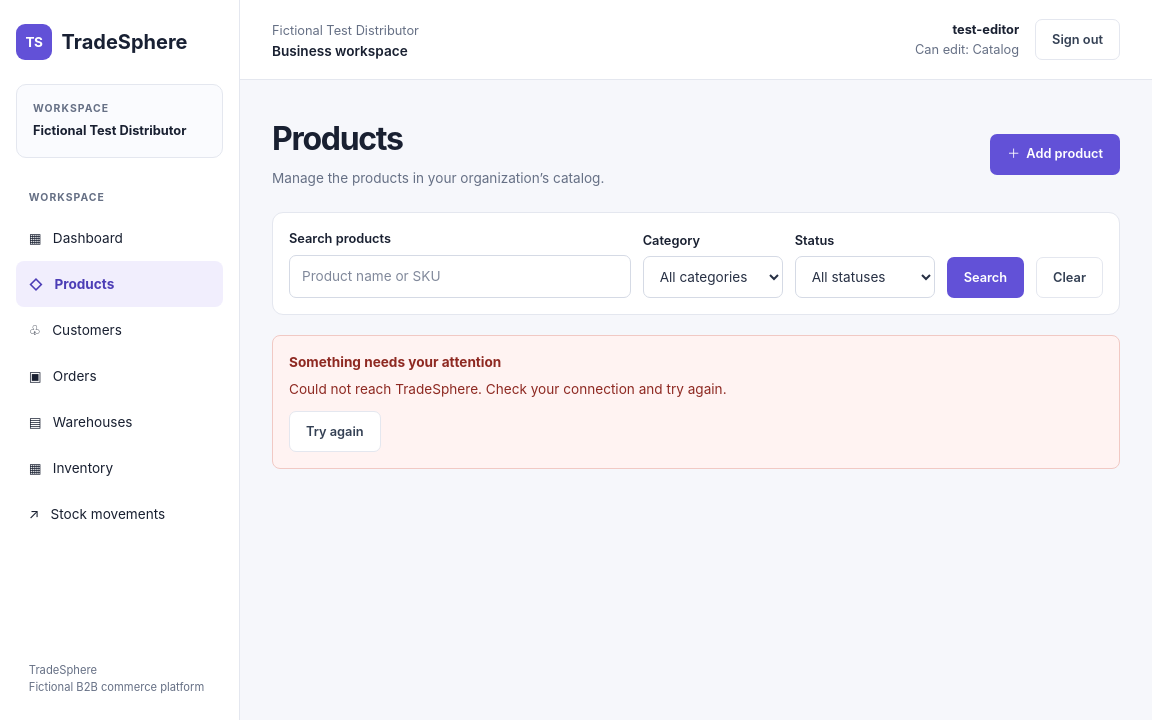
Test: catalog interactions › offers recovery after a request failure
The width and height of the screenshot is (1152, 720).
Expected: the message shows "Could not reach TradeSphere", [289,381,727,397]
Click the button "Try again": click(335, 432) [289,411,381,452]
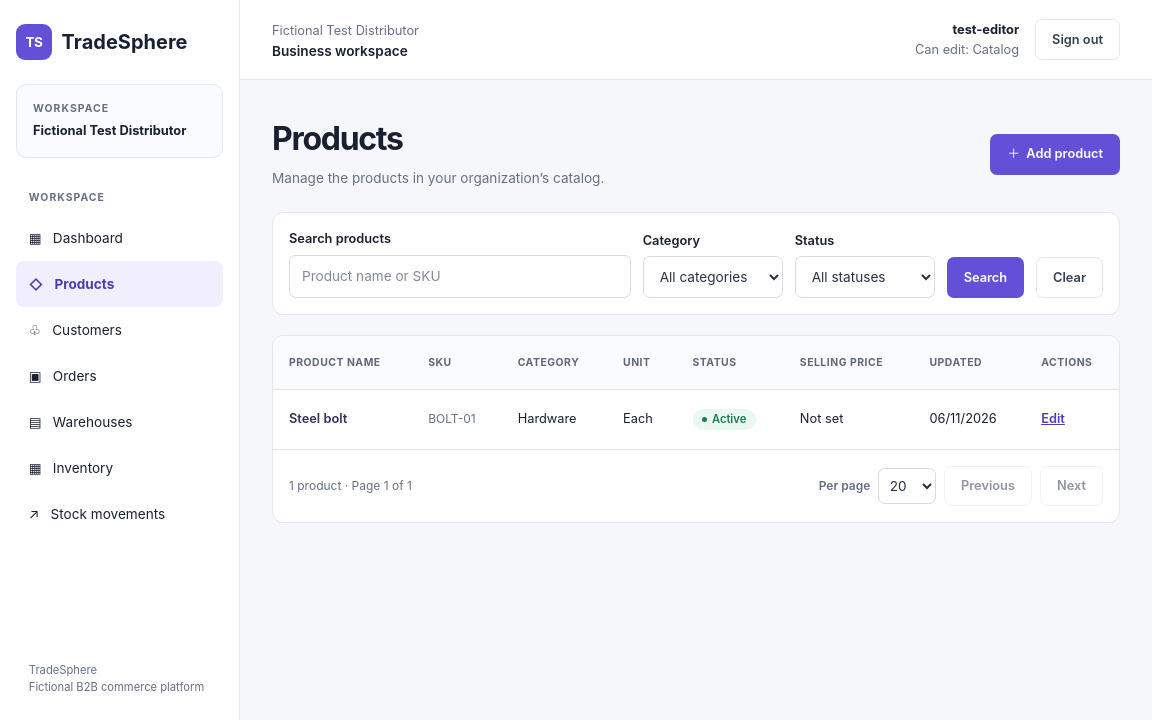
Result: the link "Steel bolt" is shown at [289,412,347,426]
